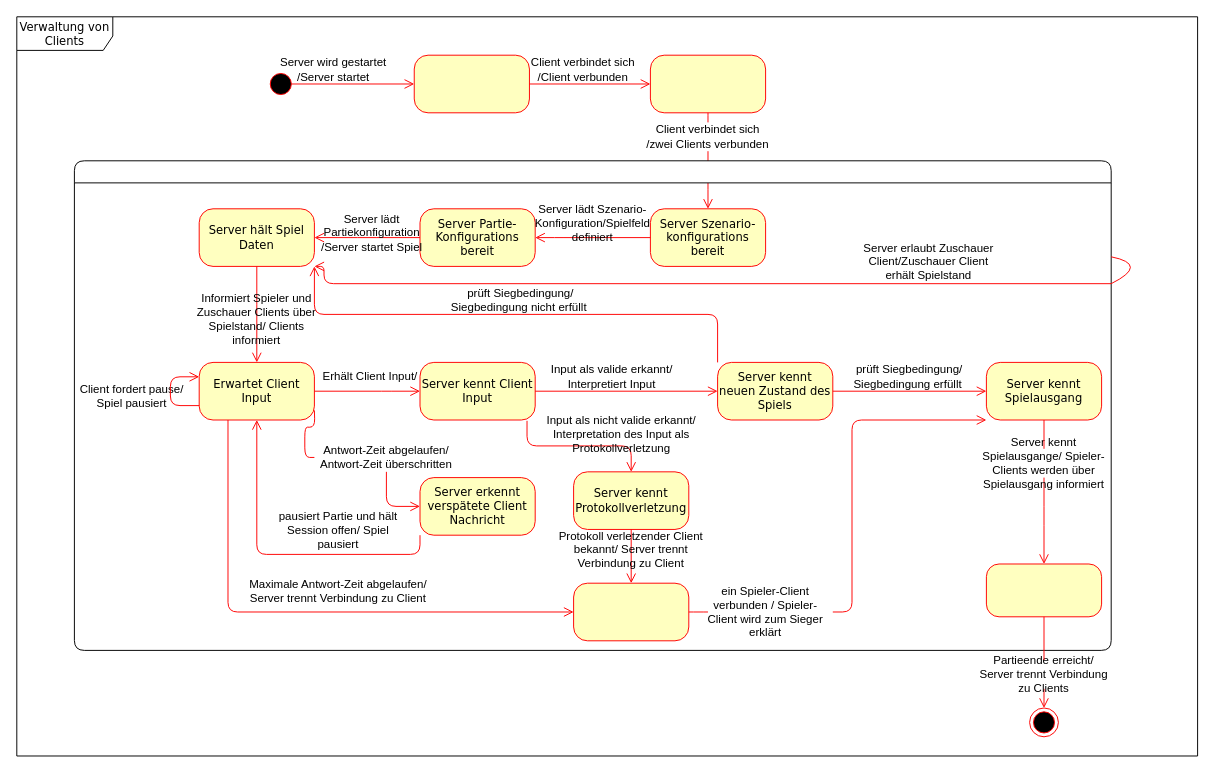
The diagram is 1214 pixels wide and 773 high, and some of its shapes have lost their labels. Here are the shapes that lost their labels. From the top down, the box of each, then its label:
(413, 54, 529, 113): Server online
(649, 54, 766, 113): Server wartet auf Client
(73, 160, 1111, 650): Spielablauf
(985, 563, 1102, 617): Server wickelt Partieende ab
(573, 582, 689, 641): Server ist nur zu einem Client verbunden
